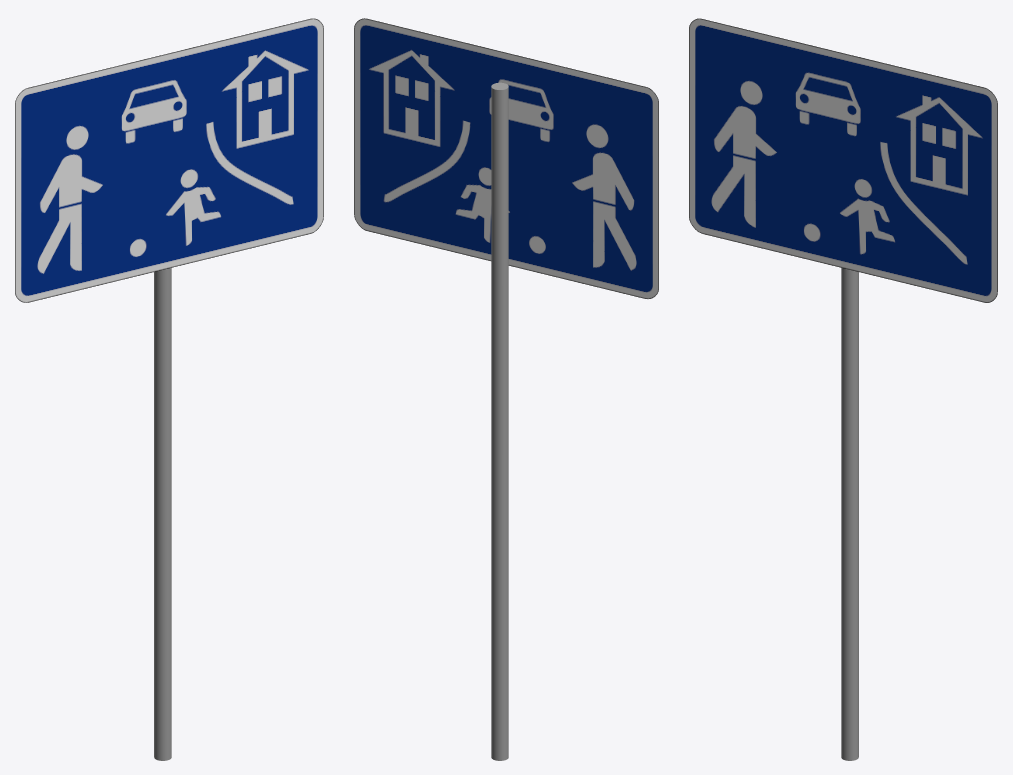
The model's file is playstreet_sign 1.fbx.
The picture shows the model from 3 angles, left to right: view 1: azimuth 30°, elevation 25°; view 2: azimuth 150°, elevation 25°; view 3: azimuth 330°, elevation 25°; orthographic projection.
Parts seen in each view (by area): view 1: pPlane1, pCylinder1; view 2: pPlane1, pCylinder1; view 3: pPlane1, pCylinder1.
Part boxes in pixels (left/top/right/bottom): pPlane1: left=15, top=18, right=323, bottom=302; pCylinder1: left=154, top=268, right=171, bottom=760; pPlane1: left=354, top=18, right=658, bottom=298; pCylinder1: left=491, top=82, right=508, bottom=760; pPlane1: left=689, top=18, right=997, bottom=302; pCylinder1: left=841, top=268, right=858, bottom=760.
Size of the model in its own units: 1.94 by 4.23 by 0.1188.
Materials: 2 (1 with a texture image).
